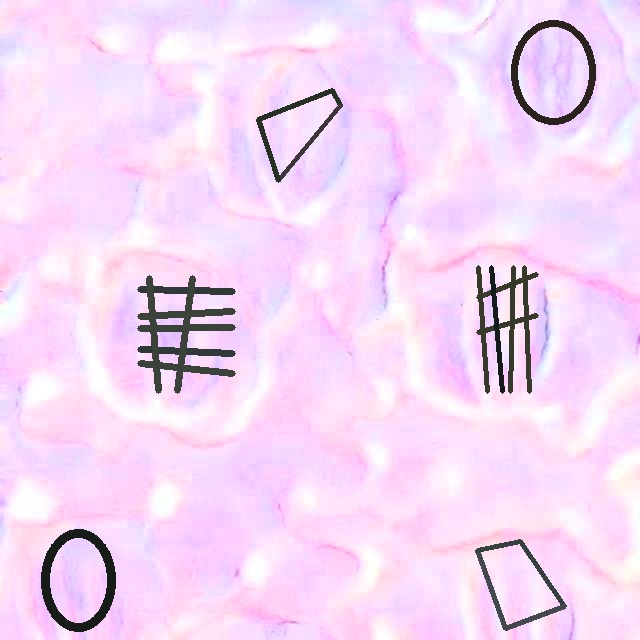close: (138, 275, 234, 393)
open: (511, 20, 596, 125), (475, 539, 566, 630), (476, 265, 538, 393), (256, 89, 341, 181), (42, 529, 115, 631)
